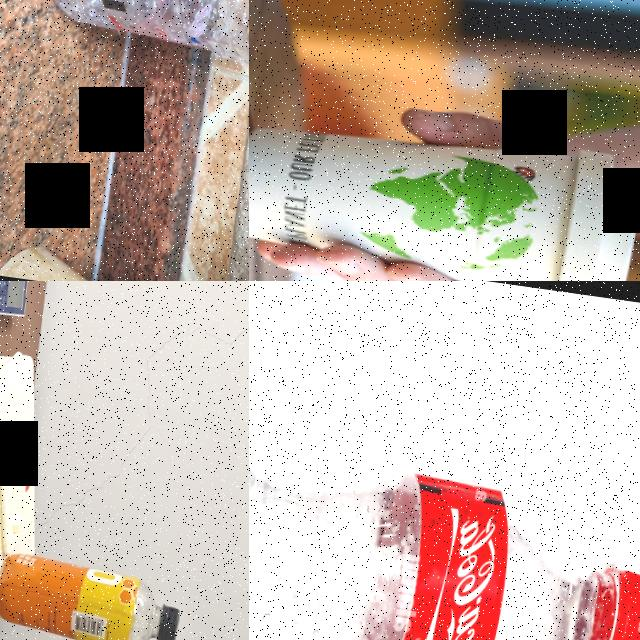bottle: (249, 424, 640, 640), (0, 548, 186, 640), (43, 0, 249, 77)
cup: (249, 102, 640, 281)
